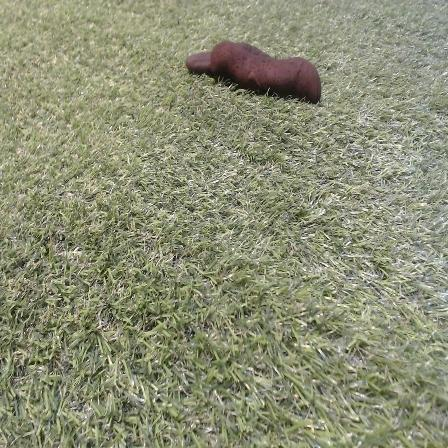dog-poop: (183, 35, 333, 106)
